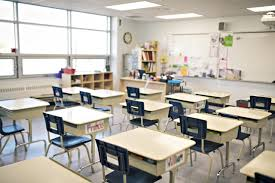desk: (97, 125, 197, 181), (44, 103, 113, 165), (173, 111, 233, 177), (0, 98, 51, 152), (119, 98, 171, 131), (164, 90, 208, 119), (85, 88, 123, 110)
